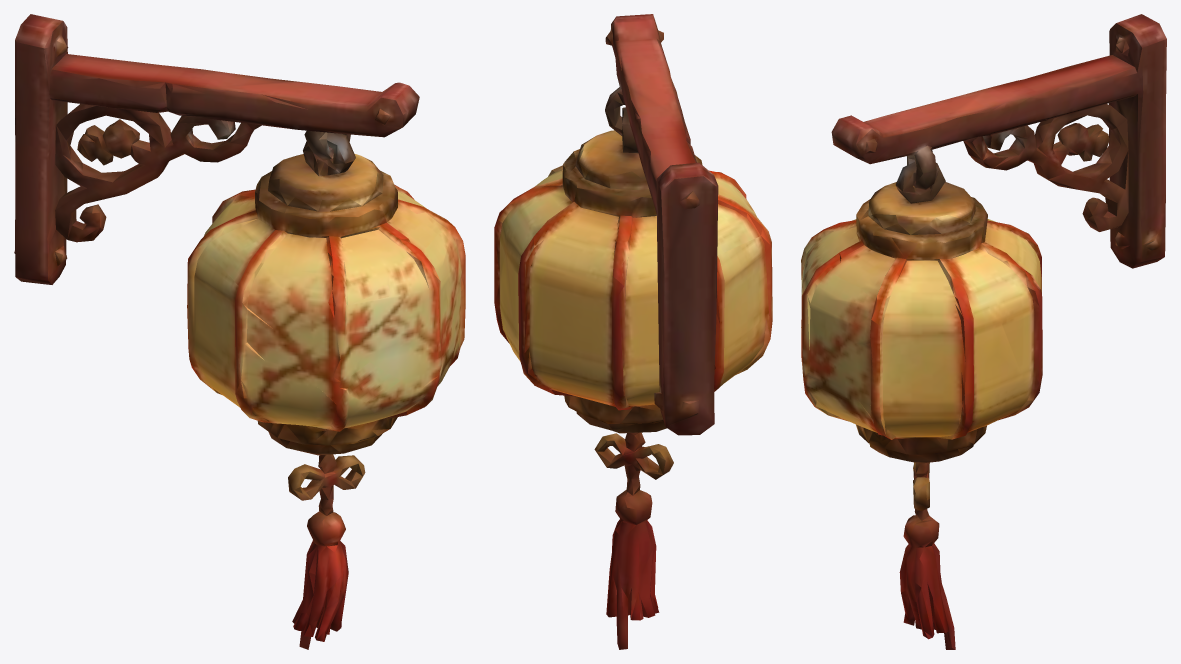
Rendered from wall18.glb.
3 renders of one model, left to right at view 1: azimuth 30°, elevation 25°; view 2: azimuth 150°, elevation 25°; view 3: azimuth 270°, elevation 25°, orthographic. The views are drawn at different scales.
Size of the model in its own units: 0.1841 by 0.3347 by 0.2007.
1 material, 1 textured.
